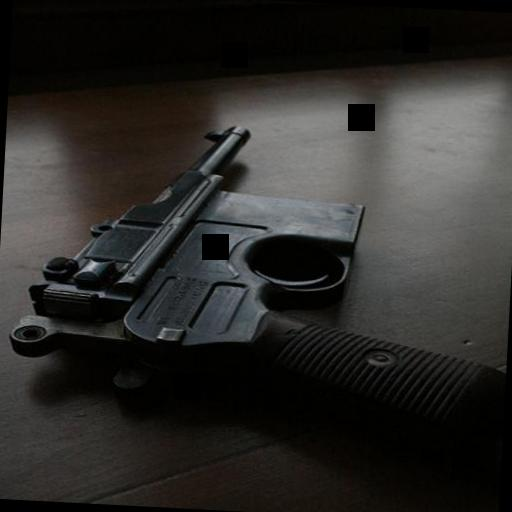Handgun: (8, 109, 512, 464)
